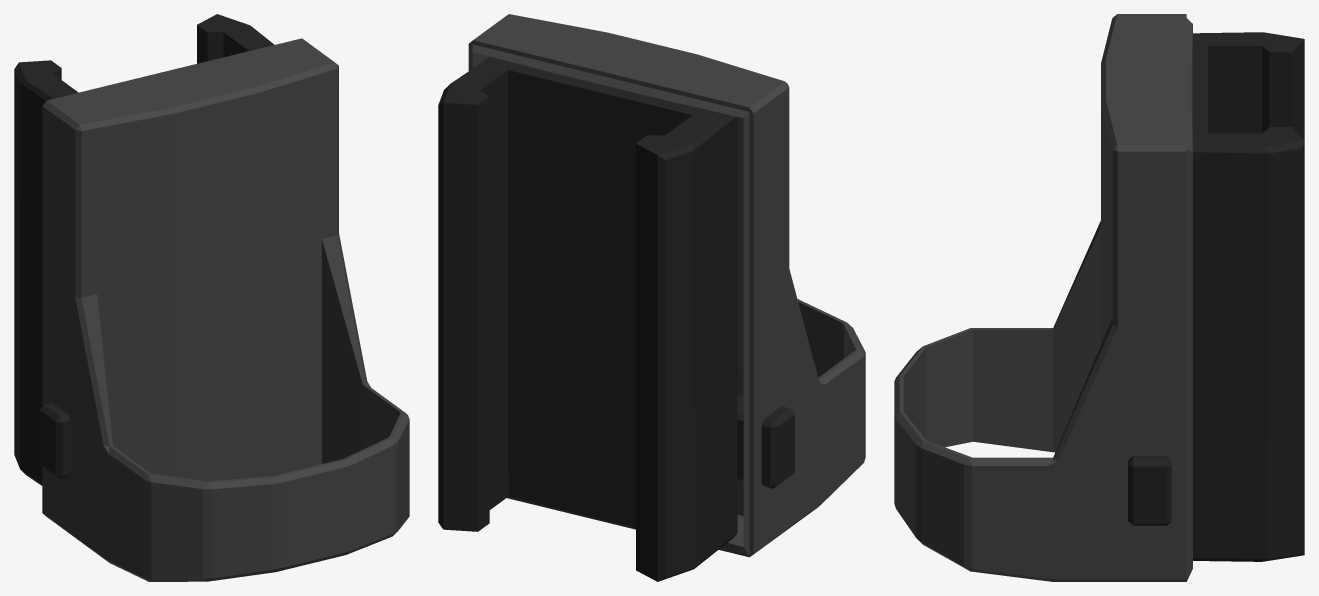
The model's file is SniperRedDot.glb.
3 views of the same model, side by side, from view 1: azimuth 30°, elevation 25°; view 2: azimuth 150°, elevation 25°; view 3: azimuth 270°, elevation 25° (orthographic). The views are drawn at different scales.
Visible parts, largest first — view 1: SniperRedDot; view 2: SniperRedDot; view 3: SniperRedDot.
Part boxes in pixels (x1,y1,x2,y2): SniperRedDot: (14, 14, 409, 581); SniperRedDot: (438, 14, 865, 581); SniperRedDot: (894, 14, 1304, 581).
Size of the model in its own units: 1.04 by 1.43 by 1.22.
Materials: 1 (1 with a texture image).
